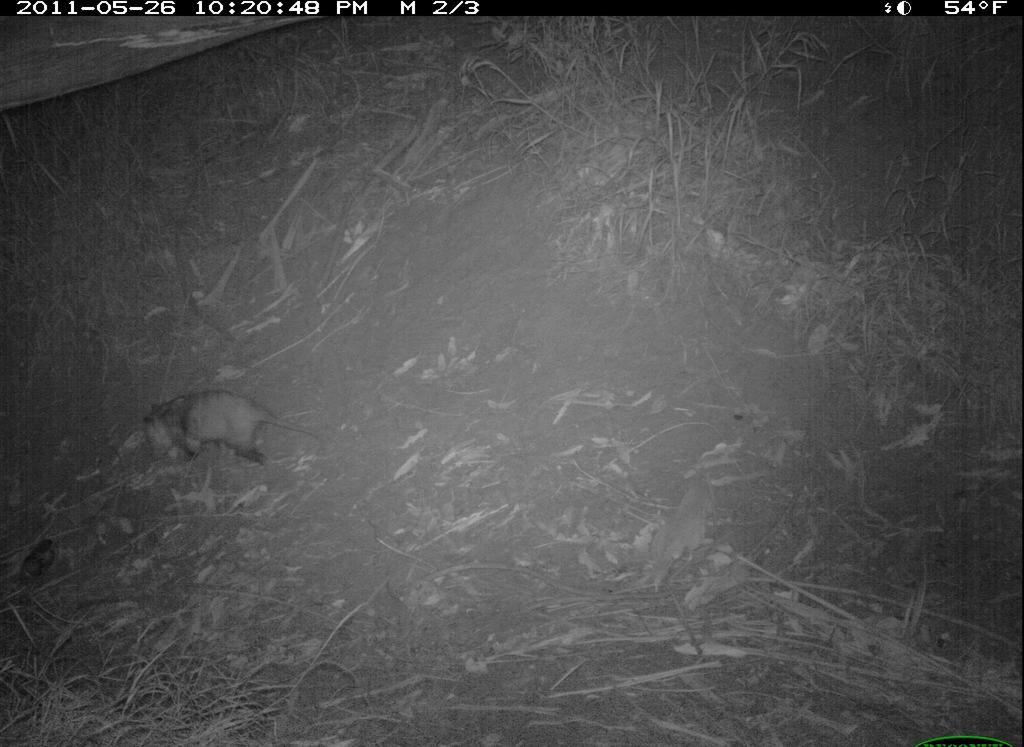opossum: (130, 382, 340, 505)
